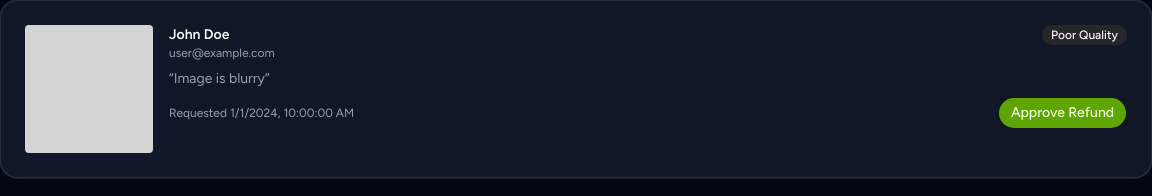
RefundApprovalQueue › removes request from list after successful approval
The width and height of the screenshot is (1152, 196).
Check: the heading "John Doe" is shown, box left=169, top=26, right=229, bottom=43
Click the button "Approve Refund" at coordinates (1062, 113), box left=998, top=97, right=1127, bottom=129
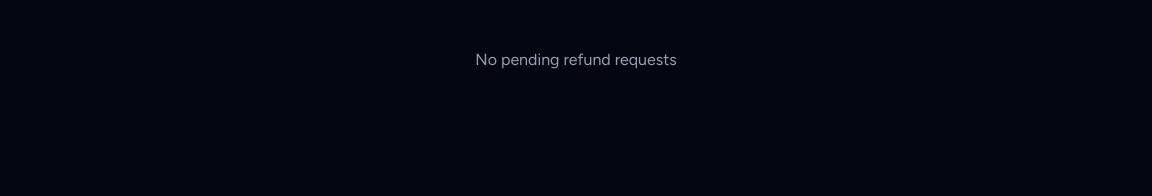
Check: the heading "John Doe" is gone
